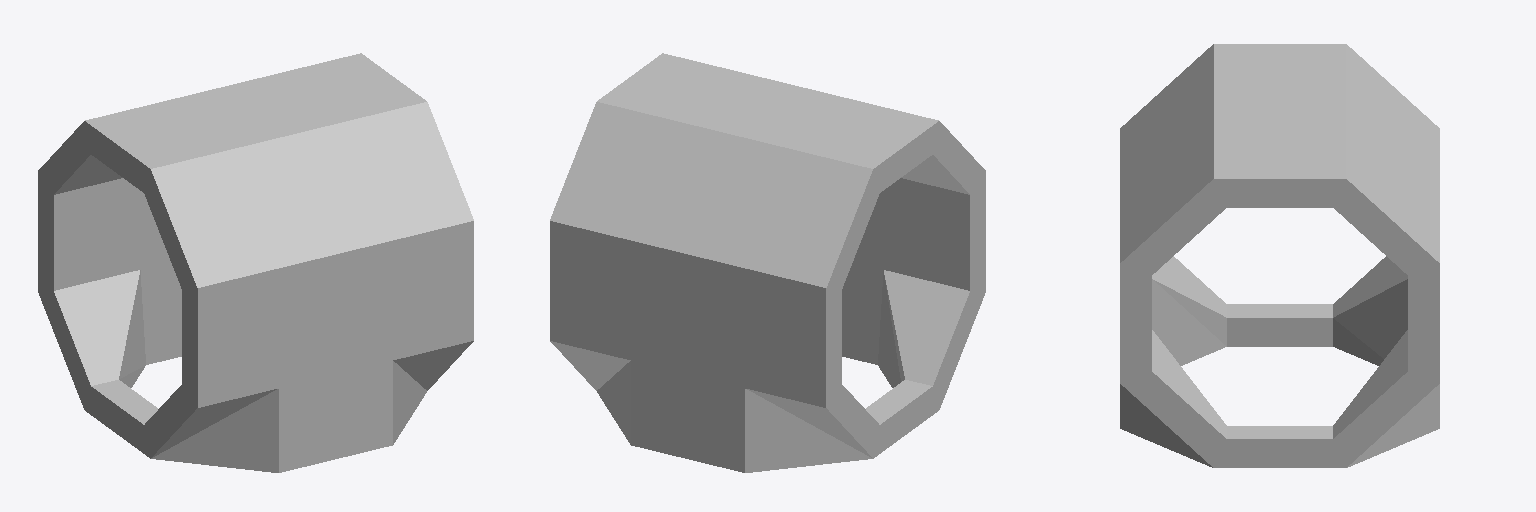
The model's file is junction.obj.
The picture shows the model from 3 angles: view 1: azimuth 30°, elevation 25°; view 2: azimuth 150°, elevation 25°; view 3: azimuth 270°, elevation 25°; orthographic projection.
Visible parts, largest first — view 1: Cylinder.001_Cylinder.005; view 2: Cylinder.001_Cylinder.005; view 3: Cylinder.001_Cylinder.005.
Boxes of the visible parts, x1,y1,x2,y2 form: Cylinder.001_Cylinder.005: [38, 53, 473, 472]; Cylinder.001_Cylinder.005: [550, 53, 985, 472]; Cylinder.001_Cylinder.005: [1120, 44, 1439, 467].
Size of the model in its own units: 1 by 1 by 1.